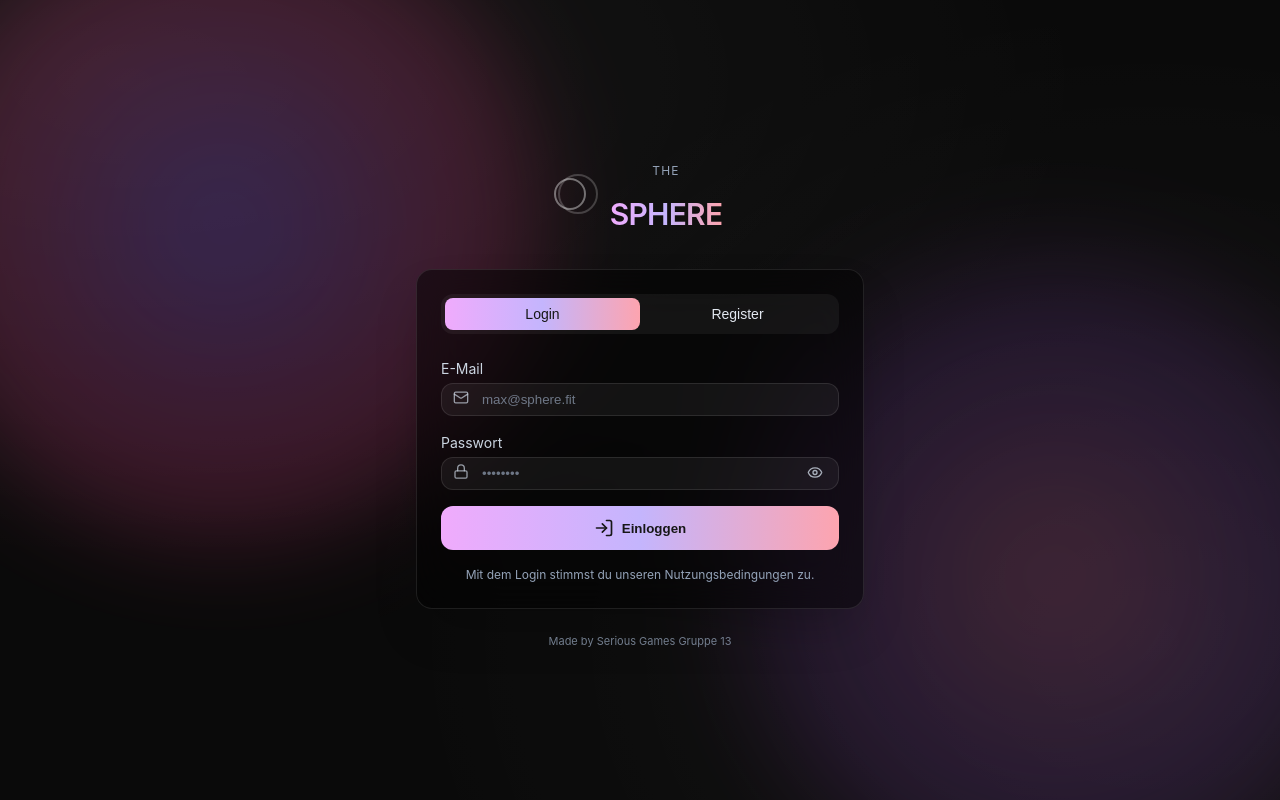
Scenario: LoginPage › Form Validation › should show error for empty fields in login
Click the button "Einloggen" at (640, 528), box [441, 506, 839, 550]
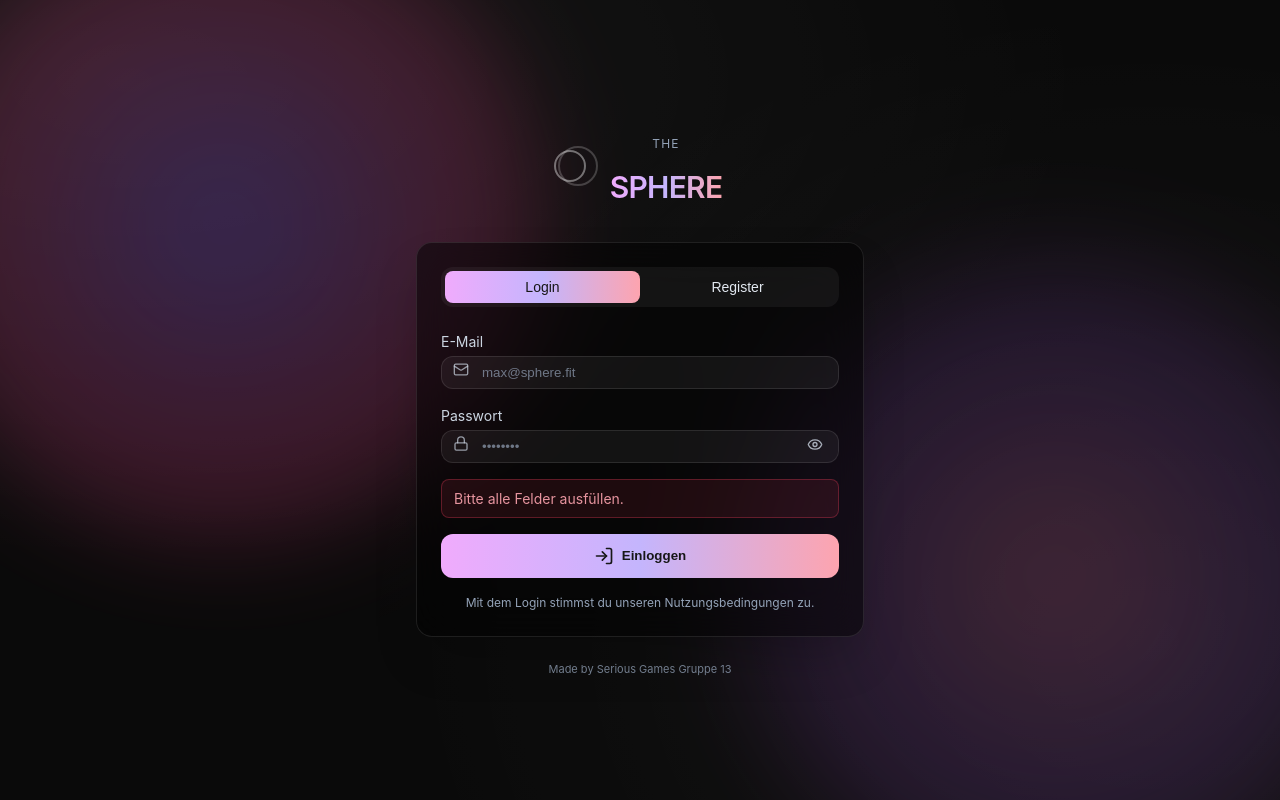
Now the text "Bitte alle Felder ausfüllen." is shown, box [441, 479, 839, 518]
